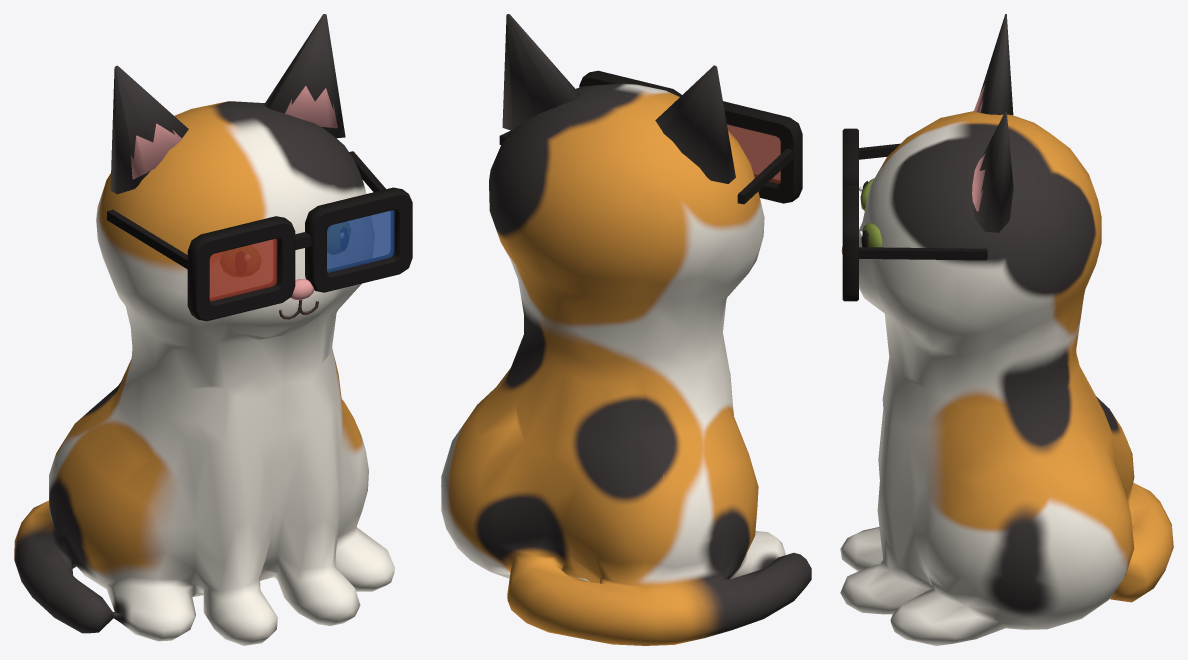
Rendered from nekobi.glb.
3 renders of one model, left to right at view 1: azimuth 30°, elevation 25°; view 2: azimuth 150°, elevation 25°; view 3: azimuth 270°, elevation 25°, orthographic. The views are drawn at different scales.
Parts seen in each view (by area): view 1: body, parts; view 2: body, parts; view 3: body, parts.
Part boxes in pixels (<box>): body: <box>14,101,394,645</box>; parts: <box>106,14,412,321</box>; body: <box>441,83,811,645</box>; parts: <box>499,14,802,204</box>; body: <box>840,111,1173,645</box>; parts: <box>841,14,1013,301</box>.
Bounding box in the file's own units: 0.2274 × 0.3652 × 0.2094.
10 materials, 1 textured.
